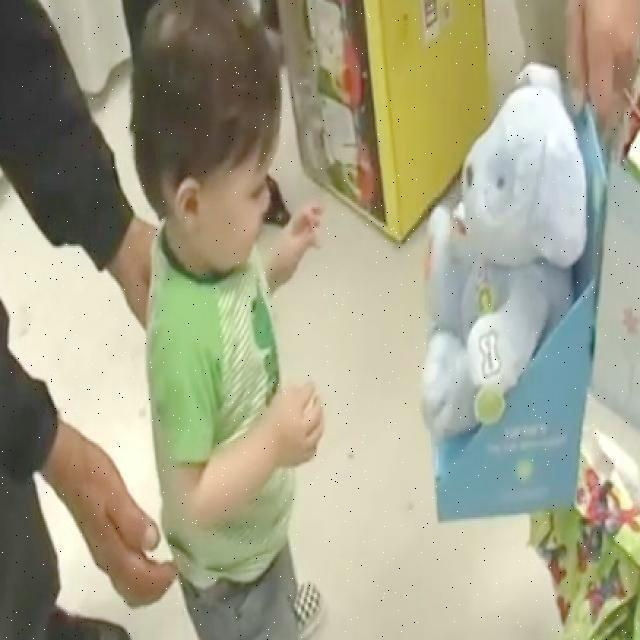child: (129, 0, 322, 640)
